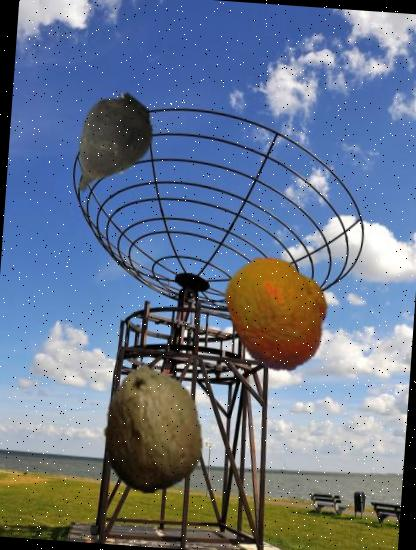Beetroot: (45, 83, 168, 206)
Mandarine: (215, 249, 342, 376)
Papaya: (85, 361, 222, 498)
